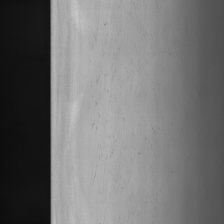silk_spot: (84, 9, 140, 189)
